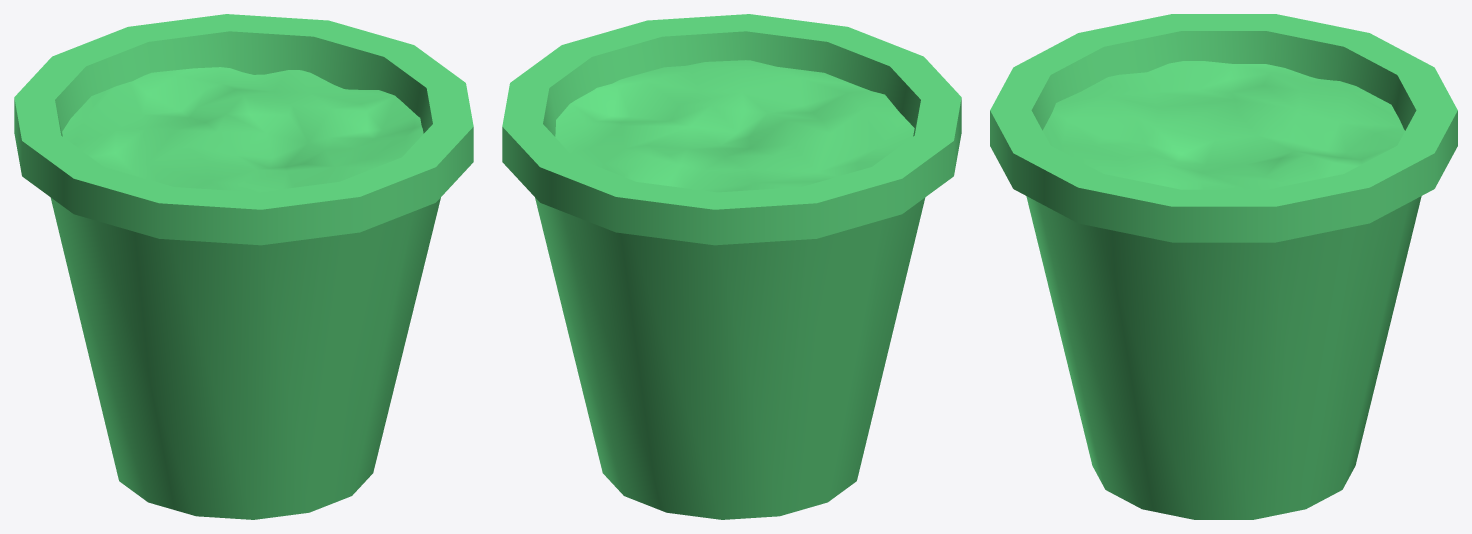
The model's file is Pot.fbx.
The picture shows the model from 3 angles, left to right: view 1: azimuth 30°, elevation 25°; view 2: azimuth 150°, elevation 25°; view 3: azimuth 270°, elevation 25°; orthographic projection.
Parts seen in each view (by area): view 1: Cylinder.004, Plane.001; view 2: Cylinder.004, Plane.001; view 3: Cylinder.004, Plane.001.
Part boxes in pixels (x1,y1,x2,y2): Cylinder.004: (14, 14, 473, 519); Plane.001: (62, 67, 423, 192); Cylinder.004: (502, 14, 961, 519); Plane.001: (555, 60, 914, 192); Cylinder.004: (990, 14, 1457, 519); Plane.001: (1042, 61, 1404, 189).
Bounding box in the file's own units: 62 × 53.32 × 63.6.
